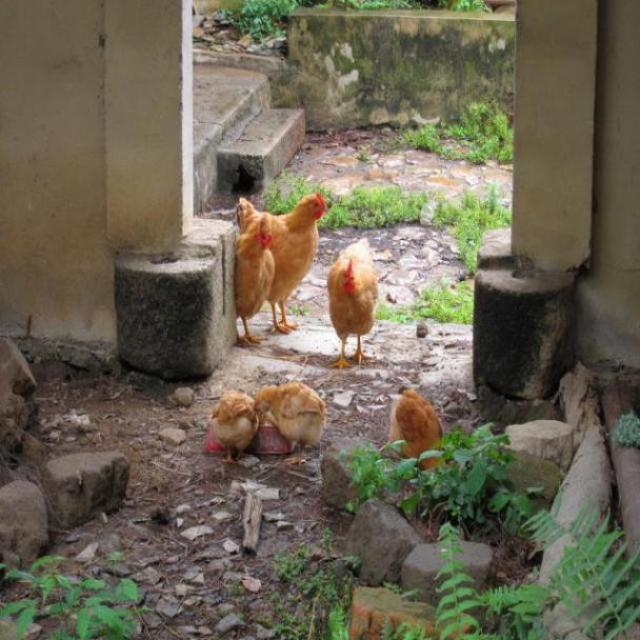Chicken: (326, 233, 381, 370), (230, 214, 279, 349), (381, 384, 445, 486)
